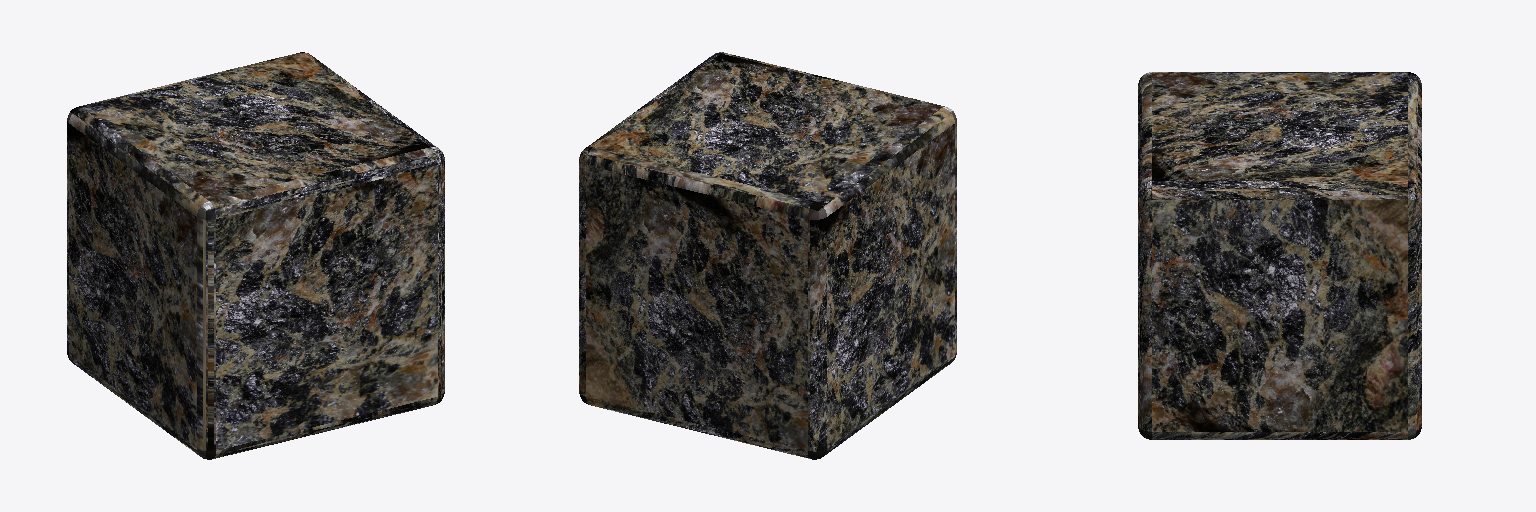
The picture shows the model from 3 angles: view 1: azimuth 30°, elevation 25°; view 2: azimuth 150°, elevation 25°; view 3: azimuth 270°, elevation 25°; orthographic projection.
Visible parts, largest first — view 1: Cube; view 2: Cube; view 3: Cube.
Part boxes in pixels (x1,y1,x2,y2): Cube: (67,52,444,459); Cube: (579,52,956,459); Cube: (1138,72,1421,439).
Size of the model in its own units: 2 by 2 by 2.
1 materials, 1 textured.